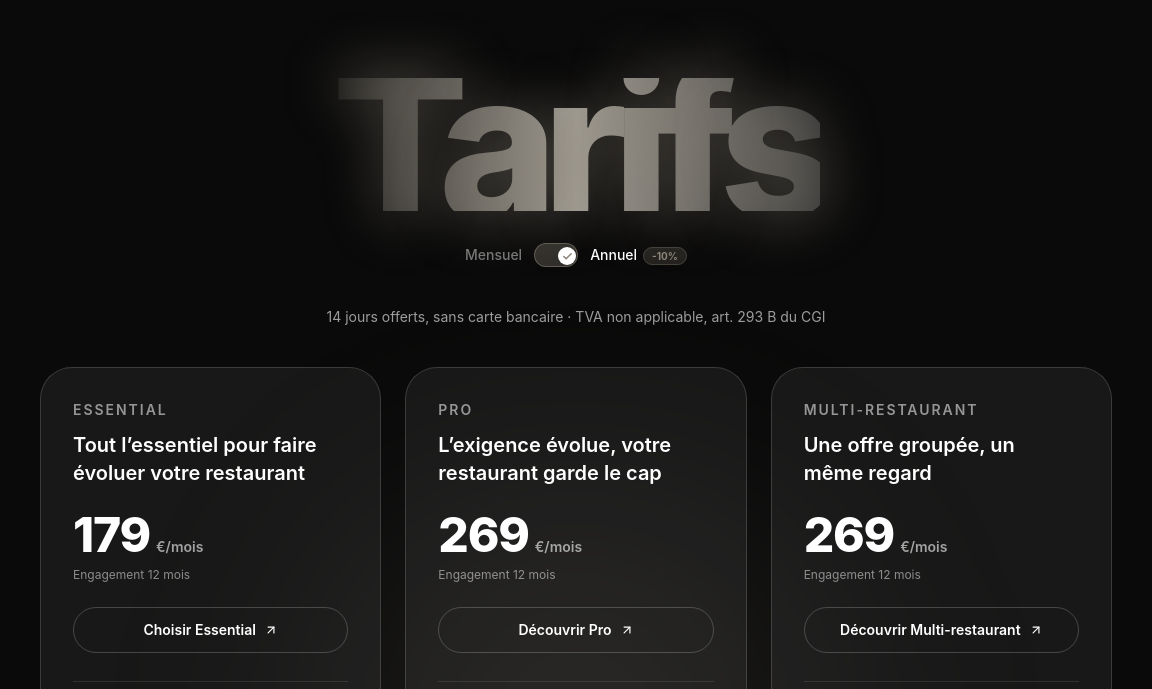
Test: PricingSection › calcule le total multi-site et transmet le nombre sélectionné
Click the switch. click: (556, 256)
box: x1=534 y1=244 x2=578 y2=268
(page scrolled)
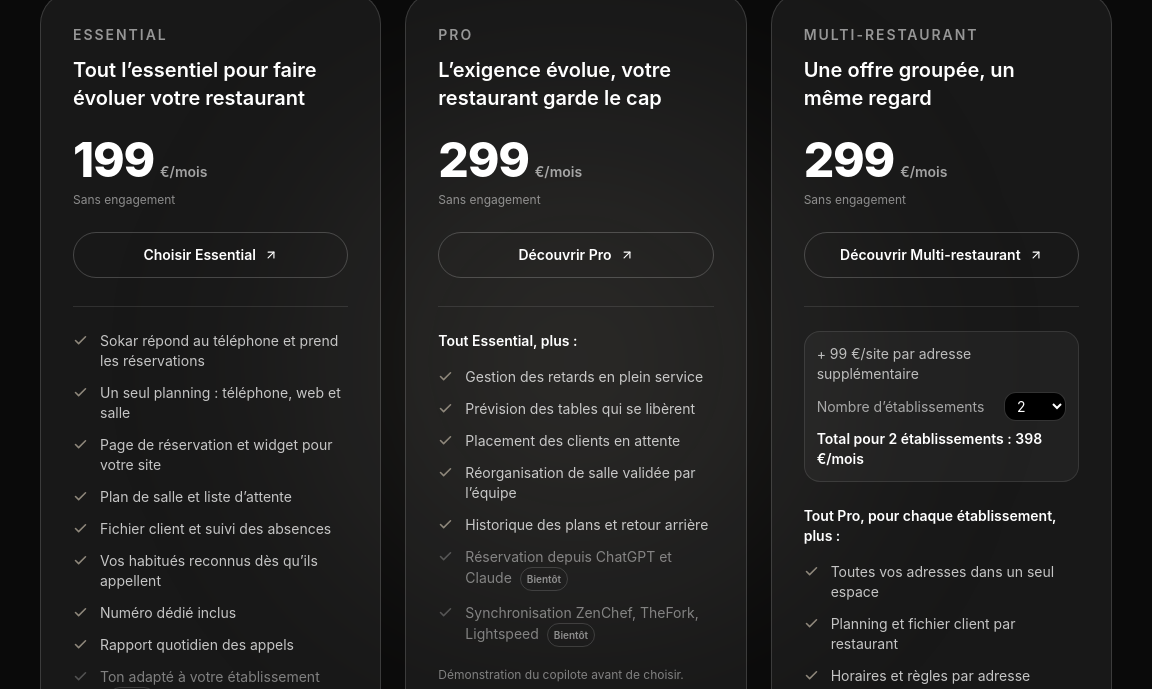
Select "3" in the dropdown labelled "Nombre d’établissements". click: (1035, 407)
box: x1=1004 y1=392 x2=1066 y2=422
(page scrolled)
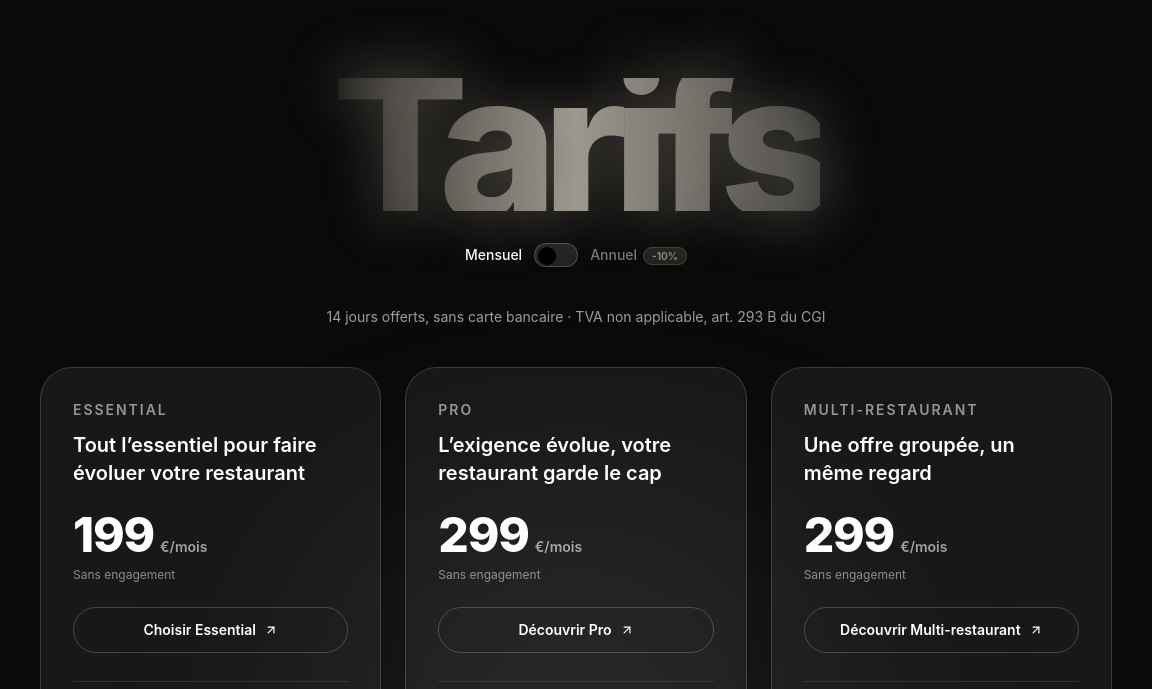
Check: the link "Découvrir Multi-restaurant" has attribute href="/demo?plan=multi-site&billing=monthly&sites=3", box x1=804 y1=608 x2=1079 y2=654
Click the switch. click: (556, 256)
box: x1=534 y1=244 x2=578 y2=268
(page scrolled)
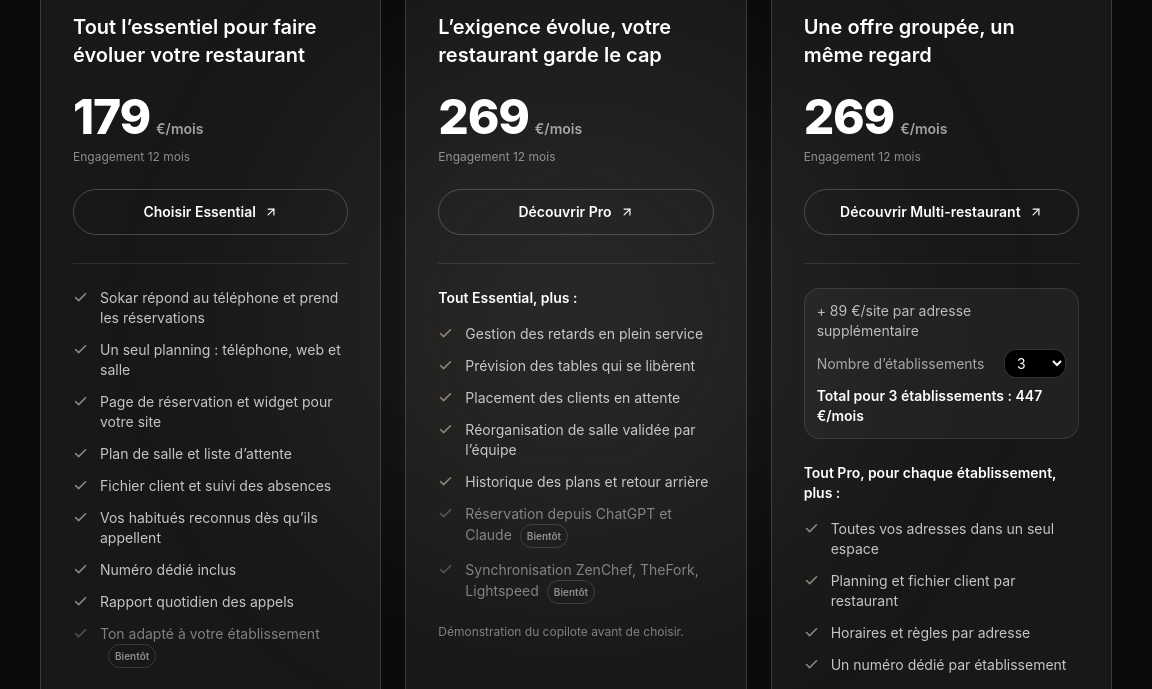
Check: the text "Total pour 3 établissements : 447 €/mois" is shown, box x1=817 y1=386 x2=1066 y2=426
